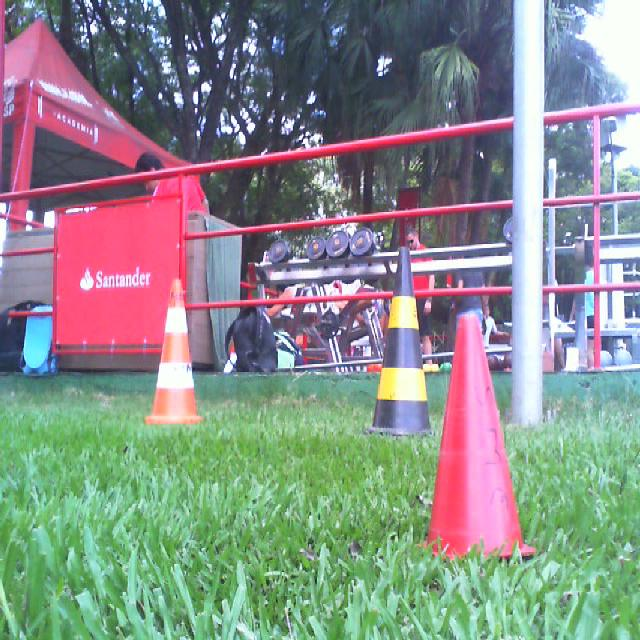cone: (418, 315, 538, 557), (360, 245, 434, 436), (146, 278, 204, 422)
